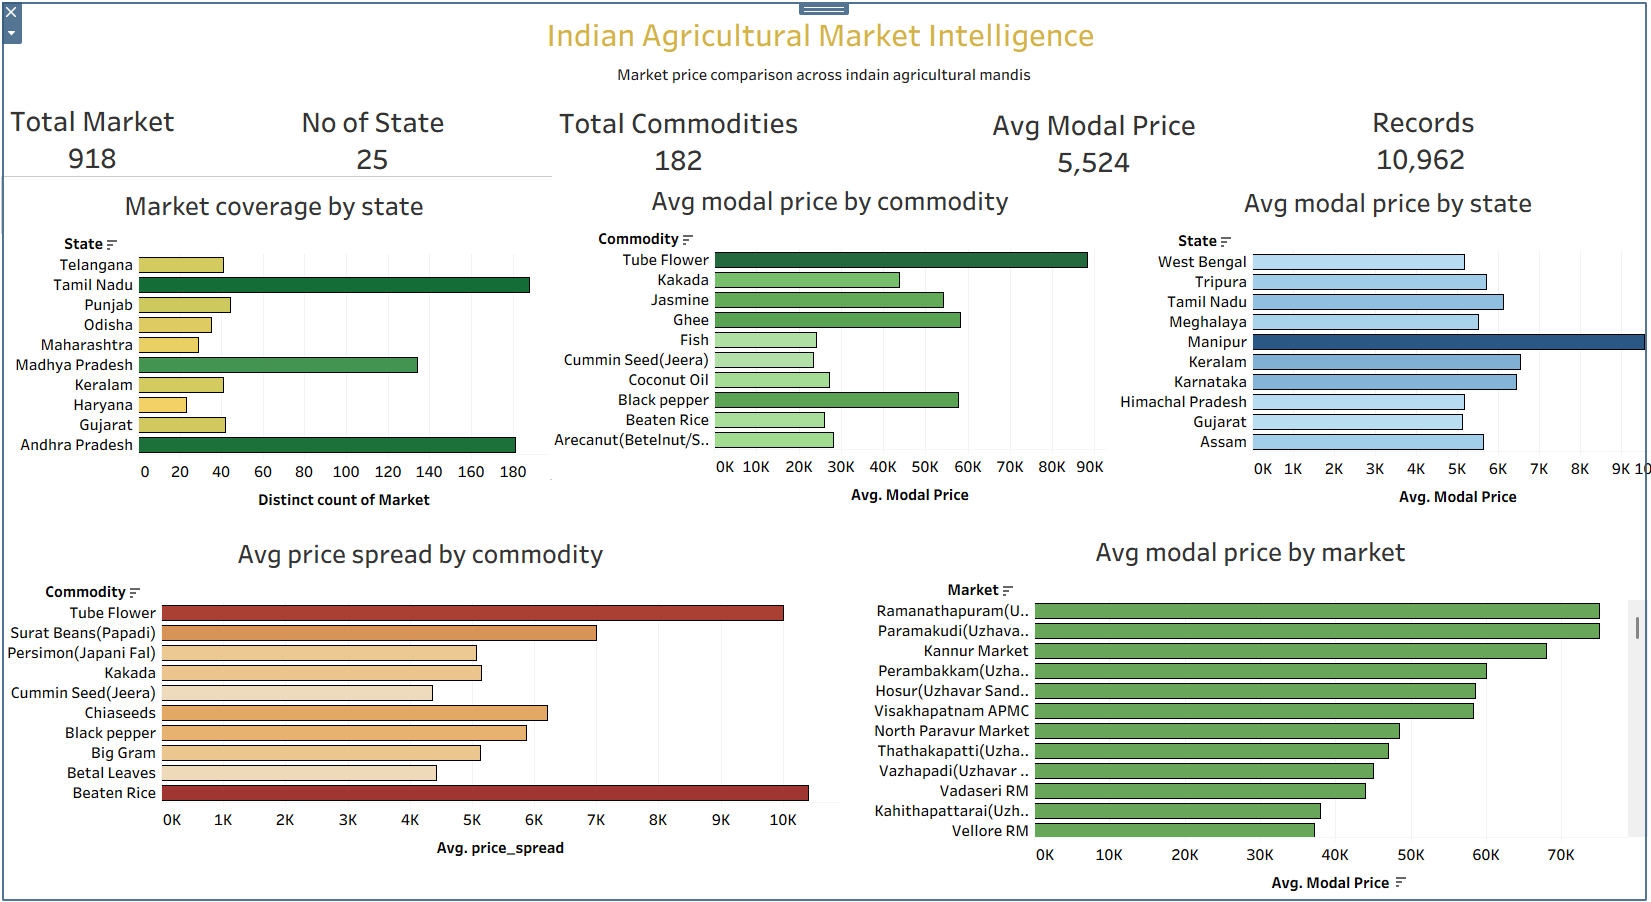

This screenshot's page, from the dashboard's own definition file:
{"tool":"tableau","page":{"name":"Agricultural Market Intelligence","canvas":[1000,1000],"units":"permille","ordinal":0},"visuals":[{"type":"worksheet","title":"totalmarketkpi","mark":"Automatic","box":[4,116.2,183,100]},{"type":"worksheet","title":"numofstatekpi","mark":"Automatic","box":[179,117.5,175,101.2]},{"type":"worksheet","title":"total records","mark":"Automatic","box":[824,117.5,180,115]},{"type":"worksheet","title":"totalcommodities","mark":"Automatic","box":[334,118.8,263,103.8]},{"type":"worksheet","title":"avgmodalprice","mark":"Automatic","box":[596,121.2,232,111.2]},{"type":"worksheet","title":"commodity price comparison","mark":"Automatic","rows":["commodity"],"cols":["modal_x0020_price"],"box":[336.8,200.9,333.1,382]},{"type":"worksheet","title":"state wise market coverage","mark":"Automatic","rows":["state"],"cols":["market"],"box":[1.2,206.4,333.1,376.5]},{"type":"worksheet","title":"market price comparison","mark":"Automatic","rows":["market"],"cols":["modal_x0020_price"],"box":[529.9,586.2,467.1,406.2]},{"type":"worksheet","title":"commodity price spread","mark":"Automatic","rows":["commodity"],"cols":["Calculation_1235091004235776"],"box":[3,588.4,506.3,409.4]}]}

Visuals, with their boxes on the dashboard's canvas, which has no fixed pixel size, in thousandths of its width and height (x1, y1, x2, y2). These are canvas units, not pixel positions in the 1651x902 screenshot, which may show the page scaled, cropped or inside an application window:
"totalmarketkpi" worksheet: select_region(4, 116, 187, 216)
"numofstatekpi" worksheet: select_region(179, 118, 354, 219)
"total records" worksheet: select_region(824, 118, 1004, 232)
"totalcommodities" worksheet: select_region(334, 119, 597, 223)
"avgmodalprice" worksheet: select_region(596, 121, 828, 232)
"commodity price comparison" worksheet: select_region(337, 201, 670, 583)
"state wise market coverage" worksheet: select_region(1, 206, 334, 583)
"market price comparison" worksheet: select_region(530, 586, 997, 992)
"commodity price spread" worksheet: select_region(3, 588, 509, 998)
